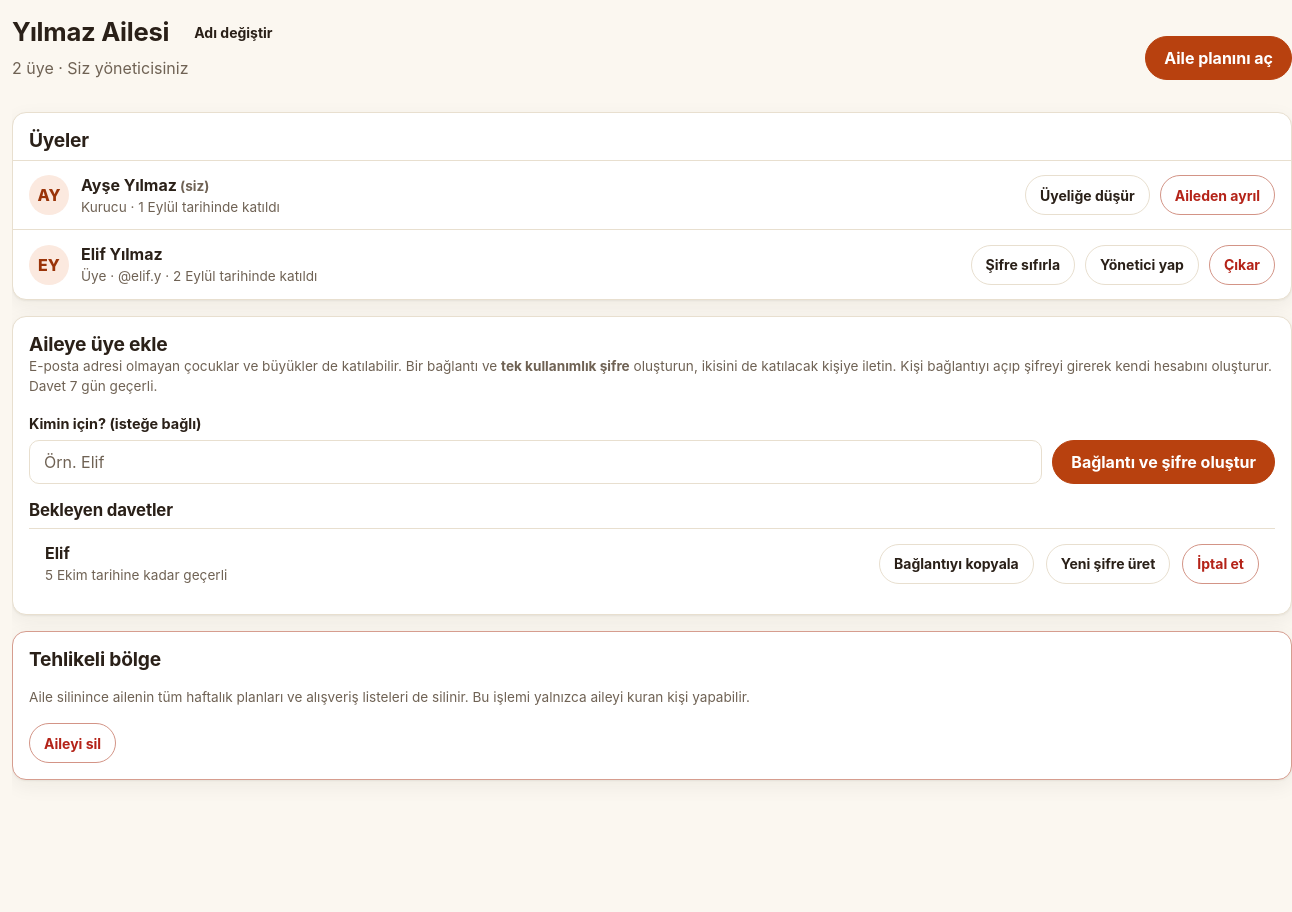
Test: FamilyDetailPage: roller ve görünürlük › sunucu silmeyi reddederse Türkçe mesajı gösterir
Click the button "Aileyi sil" at (73, 743), box 29,723 -> 116,763
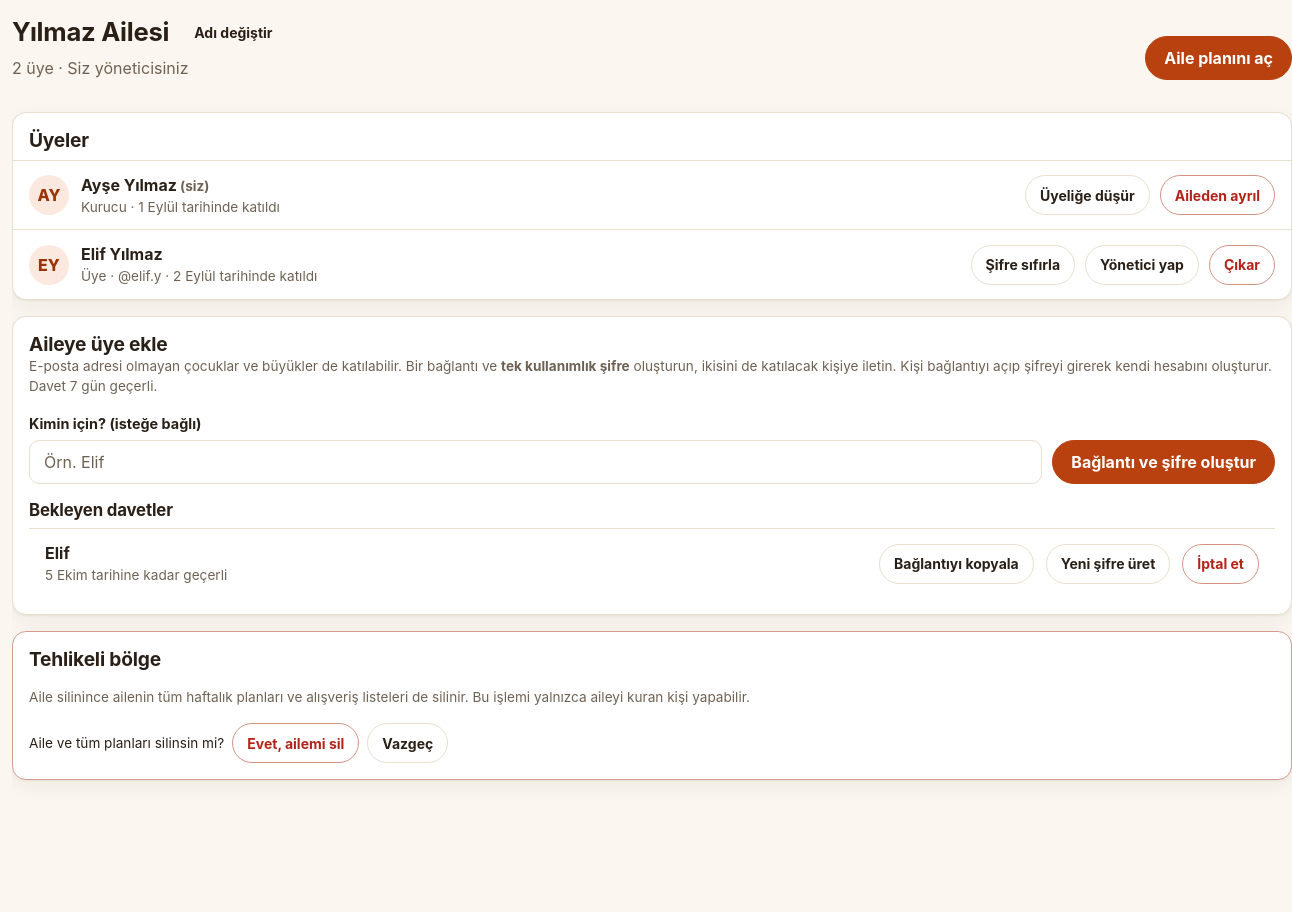
Click the button "Evet, ailemi sil" at (296, 743), box 232,723 -> 359,763
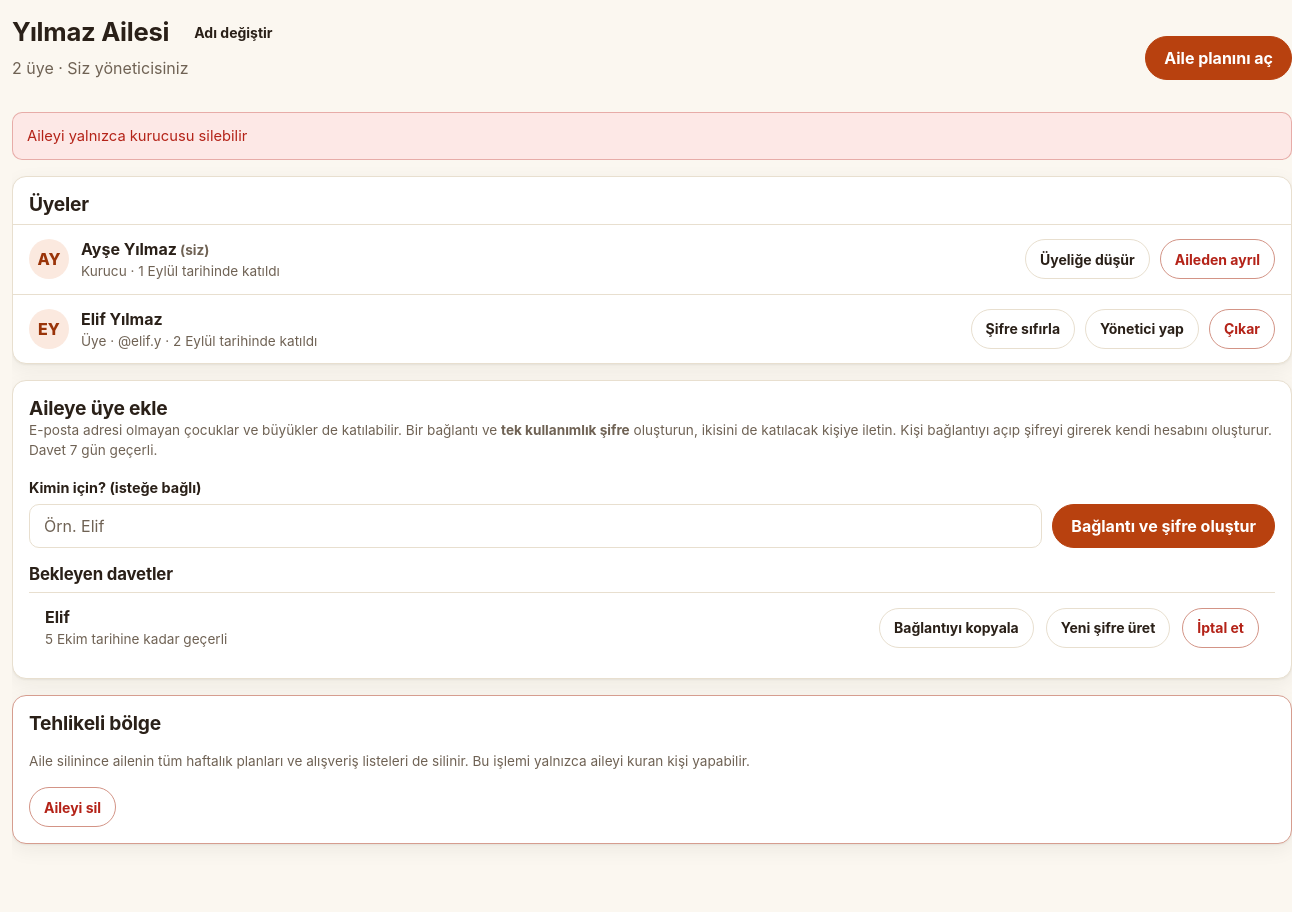
Check: the message reads "Aileyi yalnızca kurucusu silebilir", box 27,127 -> 247,145
